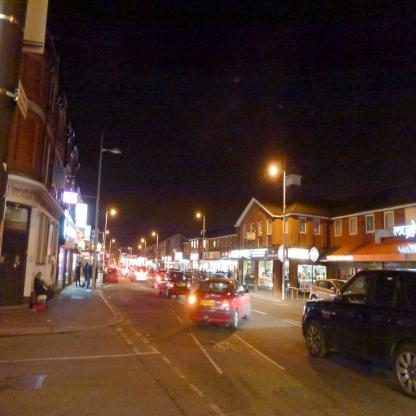Car: (304, 270, 416, 399), (187, 279, 251, 329), (156, 268, 191, 300), (310, 279, 344, 300), (130, 265, 149, 283), (102, 268, 118, 284)
